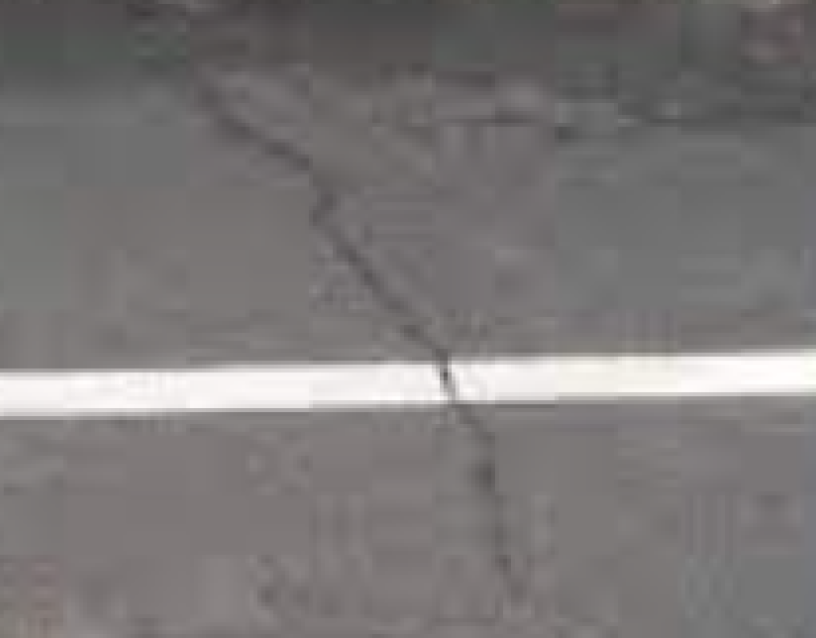Retak Melintang: (121, 15, 574, 628)
